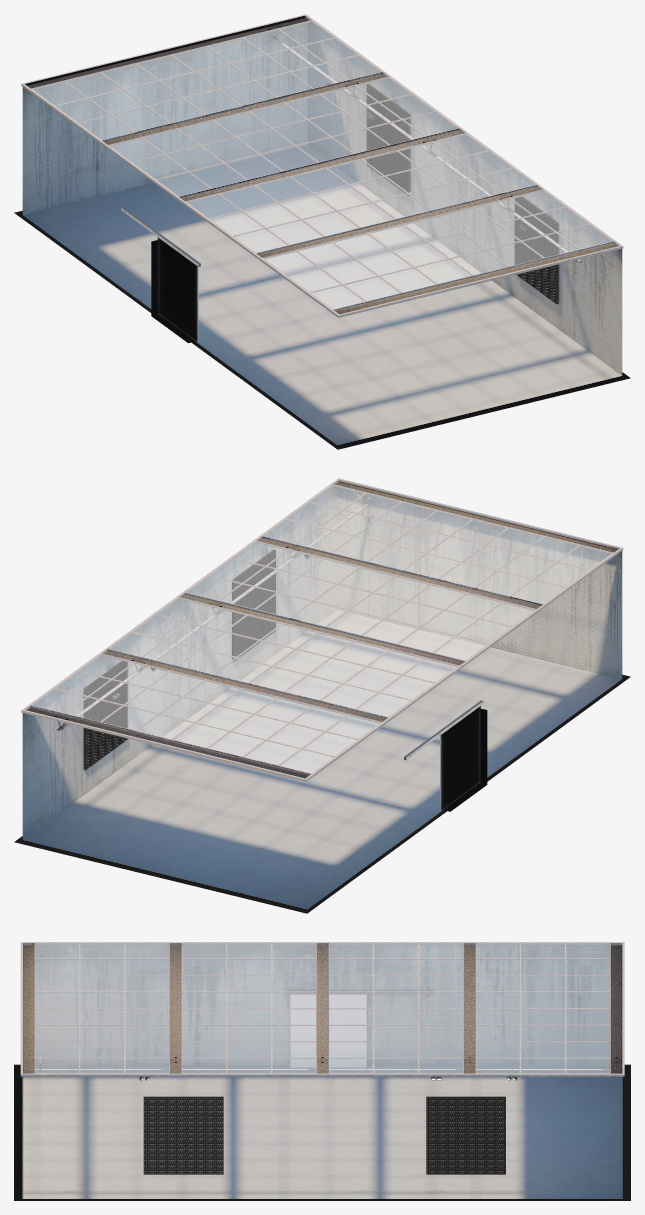
The picture shows the model from 3 angles, top to bottom: view 1: azimuth 30°, elevation 25°; view 2: azimuth 150°, elevation 25°; view 3: azimuth 270°, elevation 25°; orthographic projection. The views are drawn at different scales.
Parts seen in each view (by area): view 1: floor, glass, walls, prop; view 2: floor, glass, walls, prop; view 3: floor, glass, walls, prop.
Boxes of the visible parts, <box> form: floor: <box>14,145,630,449</box>; glass: <box>33,21,611,308</box>; walls: <box>22,17,622,375</box>; prop: <box>21,14,623,342</box>; floor: <box>14,609,630,913</box>; glass: <box>33,485,611,772</box>; walls: <box>22,480,622,839</box>; prop: <box>21,478,623,810</box>; floor: <box>14,1064,630,1200</box>; glass: <box>35,943,609,1072</box>; walls: <box>35,945,609,1066</box>; prop: <box>20,942,624,1174</box>.
Bounding box in the file's own units: 832 × 350 × 1574.
Materials: 9 (7 with a texture image).
